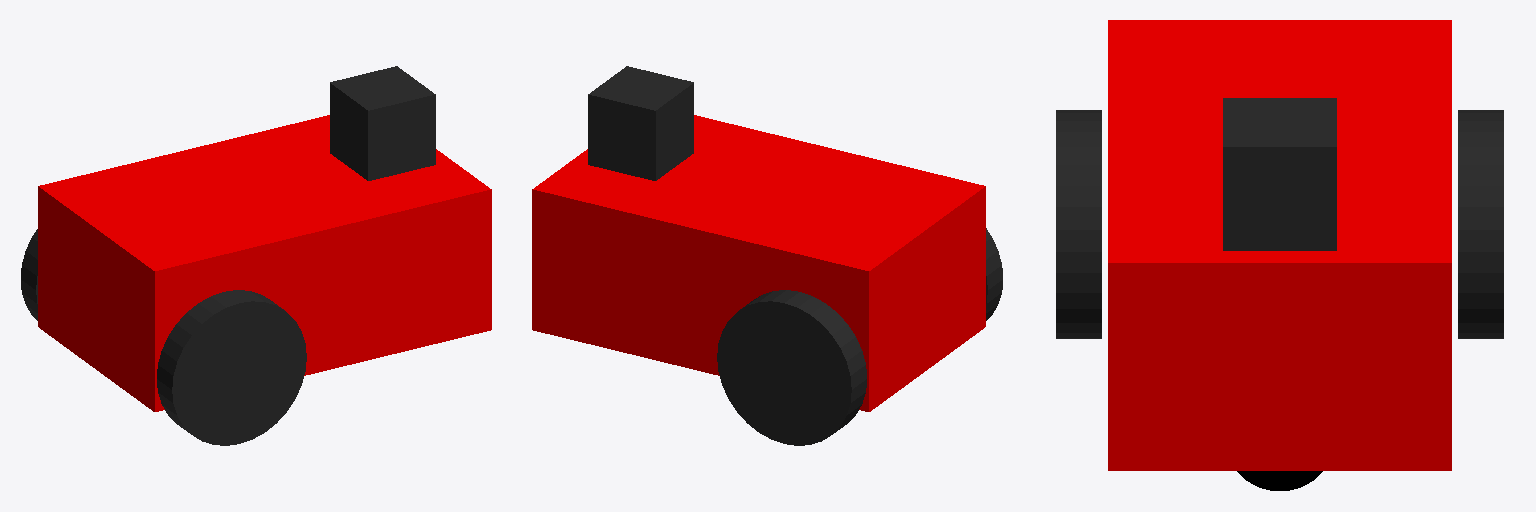
The robot description file, URDF, robot "simple_robot":
<?xml version="1.0" ?>
<robot name="simple_robot">

  <material name="black">
    <color rgba="0.0 0.0 0.0 1.0"/>
  </material>

  <material name="grey">
    <color rgba="0.2 0.2 0.2 1.0"/>
  </material>

  <material name="orange">
    <color rgba="1.0 0.0 0.0 1.0"/>
  </material>

  <link name="link_camera">
    <collision>
      <origin xyz="0 0 0" rpy="0 0 0"/>
      <geometry>
        <box size = "0.1 0.1 0.1"/>
      </geometry>
    </collision>

    <inertial>
      <mass value="1"/>
      <origin xyz="0 0 0" rpy="0 0 0"/>
      <box_inertia m="1" x="0.1" y="0.1" z="0.1"/>
      <inertia ixx="1e-6" ixy="0" ixz="0" iyy="1e-6" iyz="0" izz="1e-6"/>
    </inertial>

    <visual>
      <origin xyz="0 0 0" rpy="0 0 0"/>
      <geometry>
        <box size = "0.1 0.1 0.1"/>
      </geometry>
      <material name="grey"/>
    </visual>
  </link>

  <link name="link_chassis">
    <!-- pose and inertial -->
    <pose>0 0 0.1 0 0 0</pose>
    <inertial>
      <mass value="5"/>
      <origin rpy="0 0 0" xyz="0 0 0.15"/>
      <inertia ixx="0.03954167" ixy="0" ixz="0"
               iyy="0.10620833" iyz="0"
               izz="0.10620833"/>
    </inertial>
    <!-- body -->
    <collision name="collision_chassis">
      <geometry>
        <box size="0.5 0.3 0.2"/>
      </geometry>
    </collision>
    <visual>
      <origin rpy="0 0 0" xyz="0 0 0.05"/>
      <geometry>
        <box size="0.5 0.3 0.2"/>
      </geometry>
      <material name="orange"/>
    </visual>
    <!-- caster front -->
    <collision name="caster_front_collision">
      <origin rpy=" 0 0 0" xyz="0.3 0 -0.05"/>
      <geometry>
        <sphere radius="0.05"/>
      </geometry>
      <surface>
        <friction>
          <ode>
            <mu>0</mu>
            <mu2>0</mu2>
            <slip1>1.0</slip1>
            <slip2>1.0</slip2>
          </ode>
        </friction>
      </surface>
    </collision>
    <visual name="caster_front_visual">
      <origin rpy=" 0 0 0" xyz="0.175 0 -0.05"/>
      <geometry>
        <sphere radius="0.05"/>
      </geometry>
      <material name="black"/>
    </visual>
  </link>

  <link name="link_right_wheel">
    <inertial>
      <mass value="0.2"/>
      <origin rpy="0 1.5707 1.5707" xyz="0 0 0"/>
      <inertia ixx="0.0005267" ixy="0" ixz="0" iyy="0.0005267" iyz="0" izz="0.001"/>
    </inertial>
    <collision name="link_right_wheel_collision">
      <origin rpy="0 1.5707 1.5707" xyz="0 0 0"/>
      <geometry>
        <cylinder length="0.04" radius="0.1"/>
      </geometry>
    </collision>
    <visual name="link_right_wheel_visual">
      <origin rpy="0 1.5707 1.5707" xyz="0 0 0"/>
      <geometry>
        <cylinder length="0.04" radius="0.1"/>
      </geometry>
      <material name="grey" />
    </visual>
  </link>

  <link name="link_left_wheel">
    <inertial>
      <mass value="0.2"/>
      <origin rpy="0 1.5707 1.5707" xyz="0 0 0"/>
      <inertia ixx="0.0005267" ixy="0" ixz="0" iyy="0.0005267" iyz="0" izz="0.001"/>
    </inertial>
    <collision name="link_left_wheel_collision">
      <origin rpy="0 1.5707 1.5707" xyz="0 0 0"/>
      <geometry>
        <cylinder length="0.04" radius="0.1"/>
      </geometry>
    </collision>
    <visual name="link_left_wheel_visual">
      <origin rpy="0 1.5707 1.5707" xyz="0 0 0"/>
      <geometry>
        <cylinder length="0.04" radius="0.1"/>
      </geometry>
      <material name="grey" />
    </visual>
  </link>

  <joint name="joint_right_wheel" type="continuous">
    <origin rpy="0 0 0" xyz="-0.15 0.175 0"/>
    <child link="link_right_wheel"/>
    <parent link="link_chassis"/>
    <axis rpy="0 0 0" xyz="0 1 0"/>
    <limit effort="10000" velocity="1000"/>
    <joint_properties damping="1.0" friction="1.0"/>
  </joint>

  <joint name="joint_left_wheel" type="continuous">
    <origin rpy="0 0 0" xyz="-0.15 -0.175 0"/>
    <child link="link_left_wheel"/>
    <parent link="link_chassis"/>
    <axis rpy="0 0 0" xyz="0 1 0"/>
    <limit effort="10000" velocity="1000"/>
    <joint_properties damping="1.0" friction="1.0"/>
  </joint>

  <joint name="joint_camera" type="fixed">
    <axis xyz="0 1 0"/>
    <origin xyz="0.175 0 0.2" rpy="0 0 0"/>
    <parent link="link_chassis"/>
    <child link="link_camera"/>
  </joint>

</robot>

--- Facts derived from the render (not from the file) ---
Views: 3 orthographic renders of the robot side by side, from view 1: azimuth 30°, elevation 25°; view 2: azimuth 150°, elevation 25°; view 3: azimuth 270°, elevation 25°.
Model simple_robot with 4 links and 3 joints (2 continuous, 1 fixed), rooted at link_chassis, posed every joint at zero.
Visible links, largest first — view 1: link_chassis, link_left_wheel, link_camera, link_right_wheel; view 2: link_chassis, link_right_wheel, link_camera, link_left_wheel; view 3: link_chassis, link_camera, link_right_wheel, link_left_wheel.
Boxes of the visible links, x1,y1,x2,y2 form: link_chassis: [38, 115, 491, 411]; link_left_wheel: [157, 290, 306, 445]; link_camera: [330, 66, 435, 180]; link_right_wheel: [21, 229, 37, 320]; link_chassis: [532, 115, 985, 411]; link_right_wheel: [717, 290, 866, 445]; link_camera: [588, 66, 693, 180]; link_left_wheel: [986, 228, 1002, 320]; link_chassis: [1108, 20, 1451, 490]; link_camera: [1223, 98, 1336, 250]; link_right_wheel: [1458, 110, 1503, 338]; link_left_wheel: [1056, 110, 1101, 338].
Bounding box of the posed robot: 0.5 × 0.39 × 0.35 m (x, y, z).
Geometry: primitives only (box / cylinder / sphere), no mesh files.
